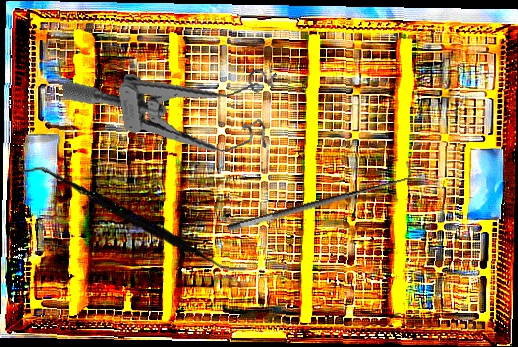Hook Surgical: (223, 160, 417, 234)
Spatula Surgical: (22, 149, 246, 293)
Speculum: (61, 53, 287, 175)
